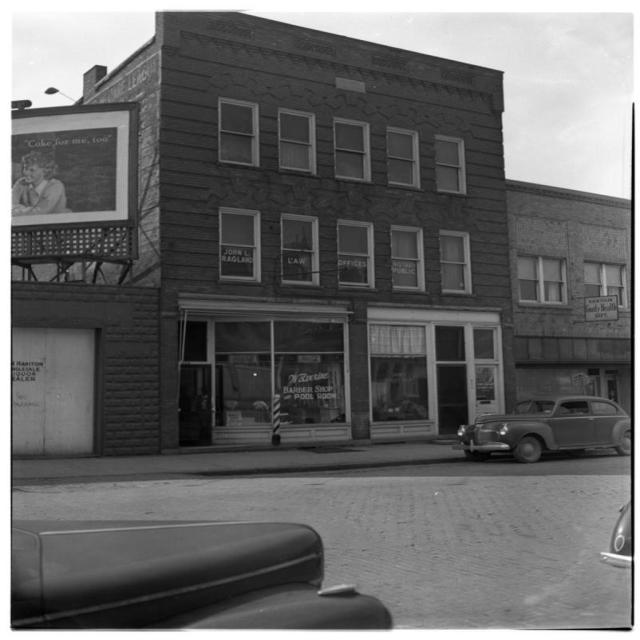car: (456, 391, 628, 463)
